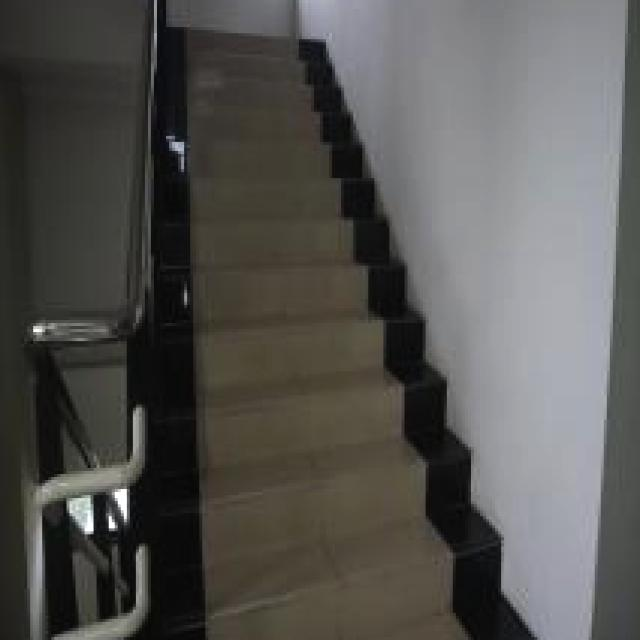upstair: (170, 31, 390, 640)
